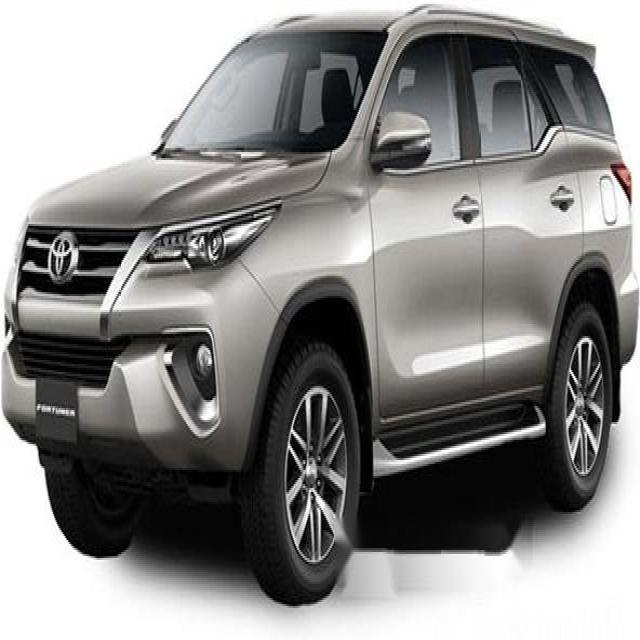light_vehicle: (1, 3, 638, 607)
